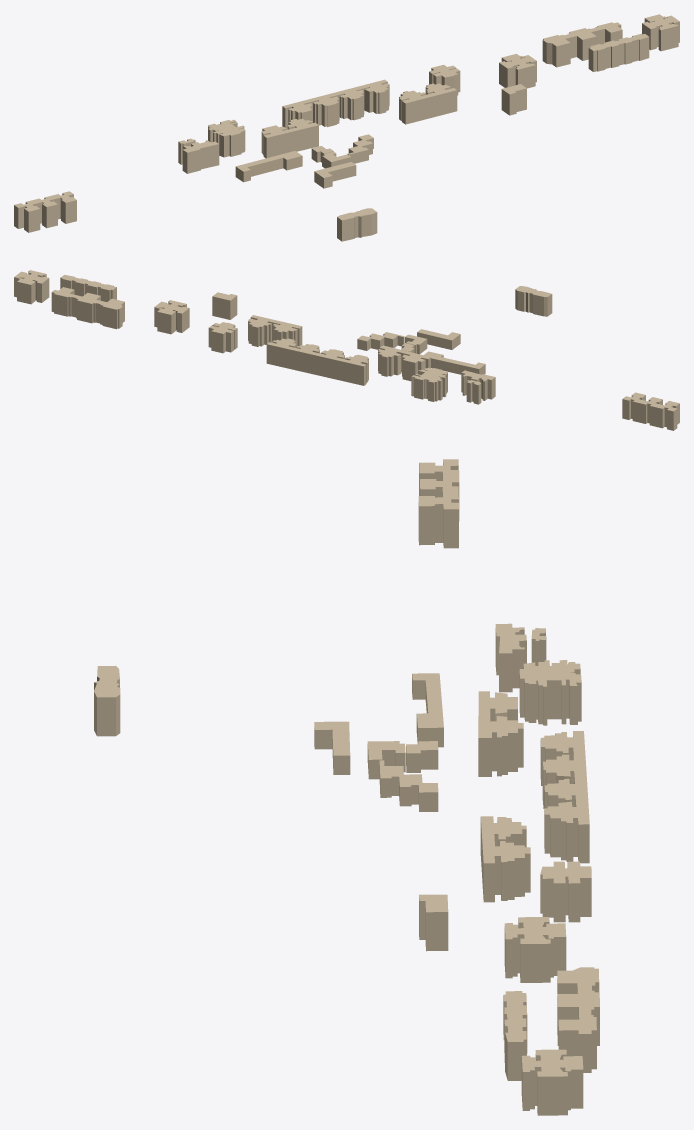
The model's file is 14_2-estimated-coarse.glb.
3 renders of one model, top to bottom at view 1: azimuth 30°, elevation 25°; view 2: azimuth 150°, elevation 25°; view 3: azimuth 270°, elevation 25°, orthographic. The views are drawn at different scales.
Size of the model in its own units: 816 by 24 by 283.
